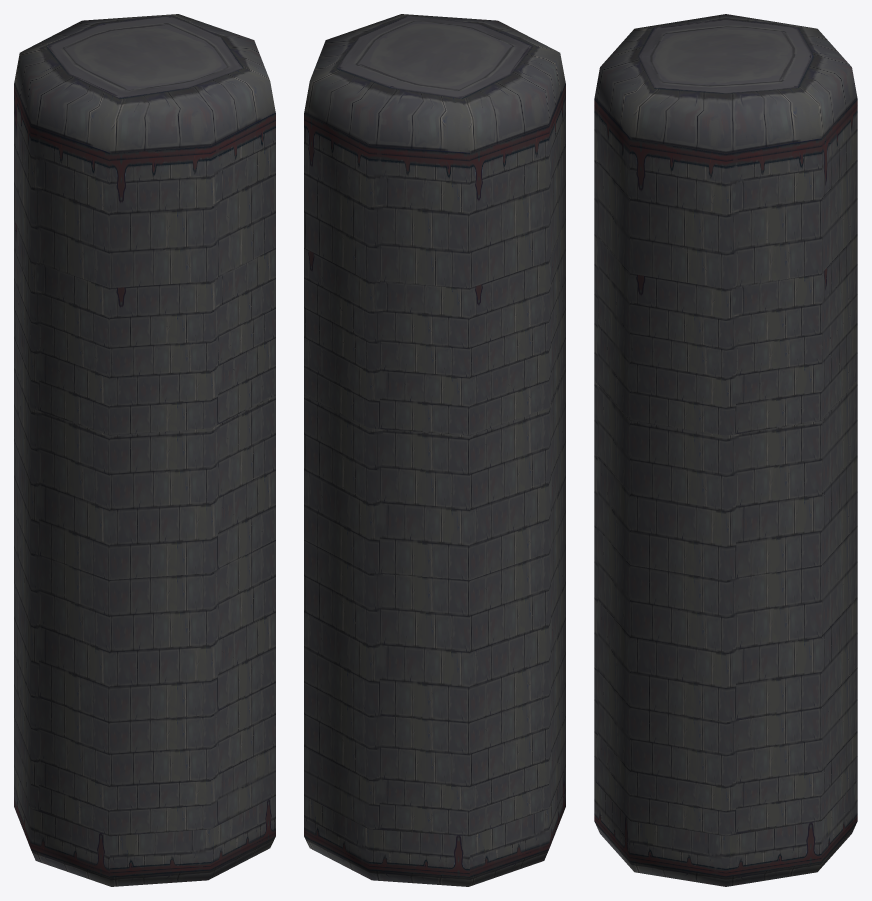
Rendered from Pillar_Round_04.glb.
3 renders of one model, left to right at view 1: azimuth 30°, elevation 25°; view 2: azimuth 150°, elevation 25°; view 3: azimuth 270°, elevation 25°, orthographic.
Visible parts, largest first — view 1: Plane.001; view 2: Plane.001; view 3: Plane.001.
Boxes of the visible parts, x1,y1,x2,y2 form: Plane.001: [14, 14, 275, 886]; Plane.001: [304, 14, 565, 886]; Plane.001: [594, 14, 857, 886].
Bounding box in the file's own units: 3.71 × 12.34 × 3.71.
1 material, 1 textured.
